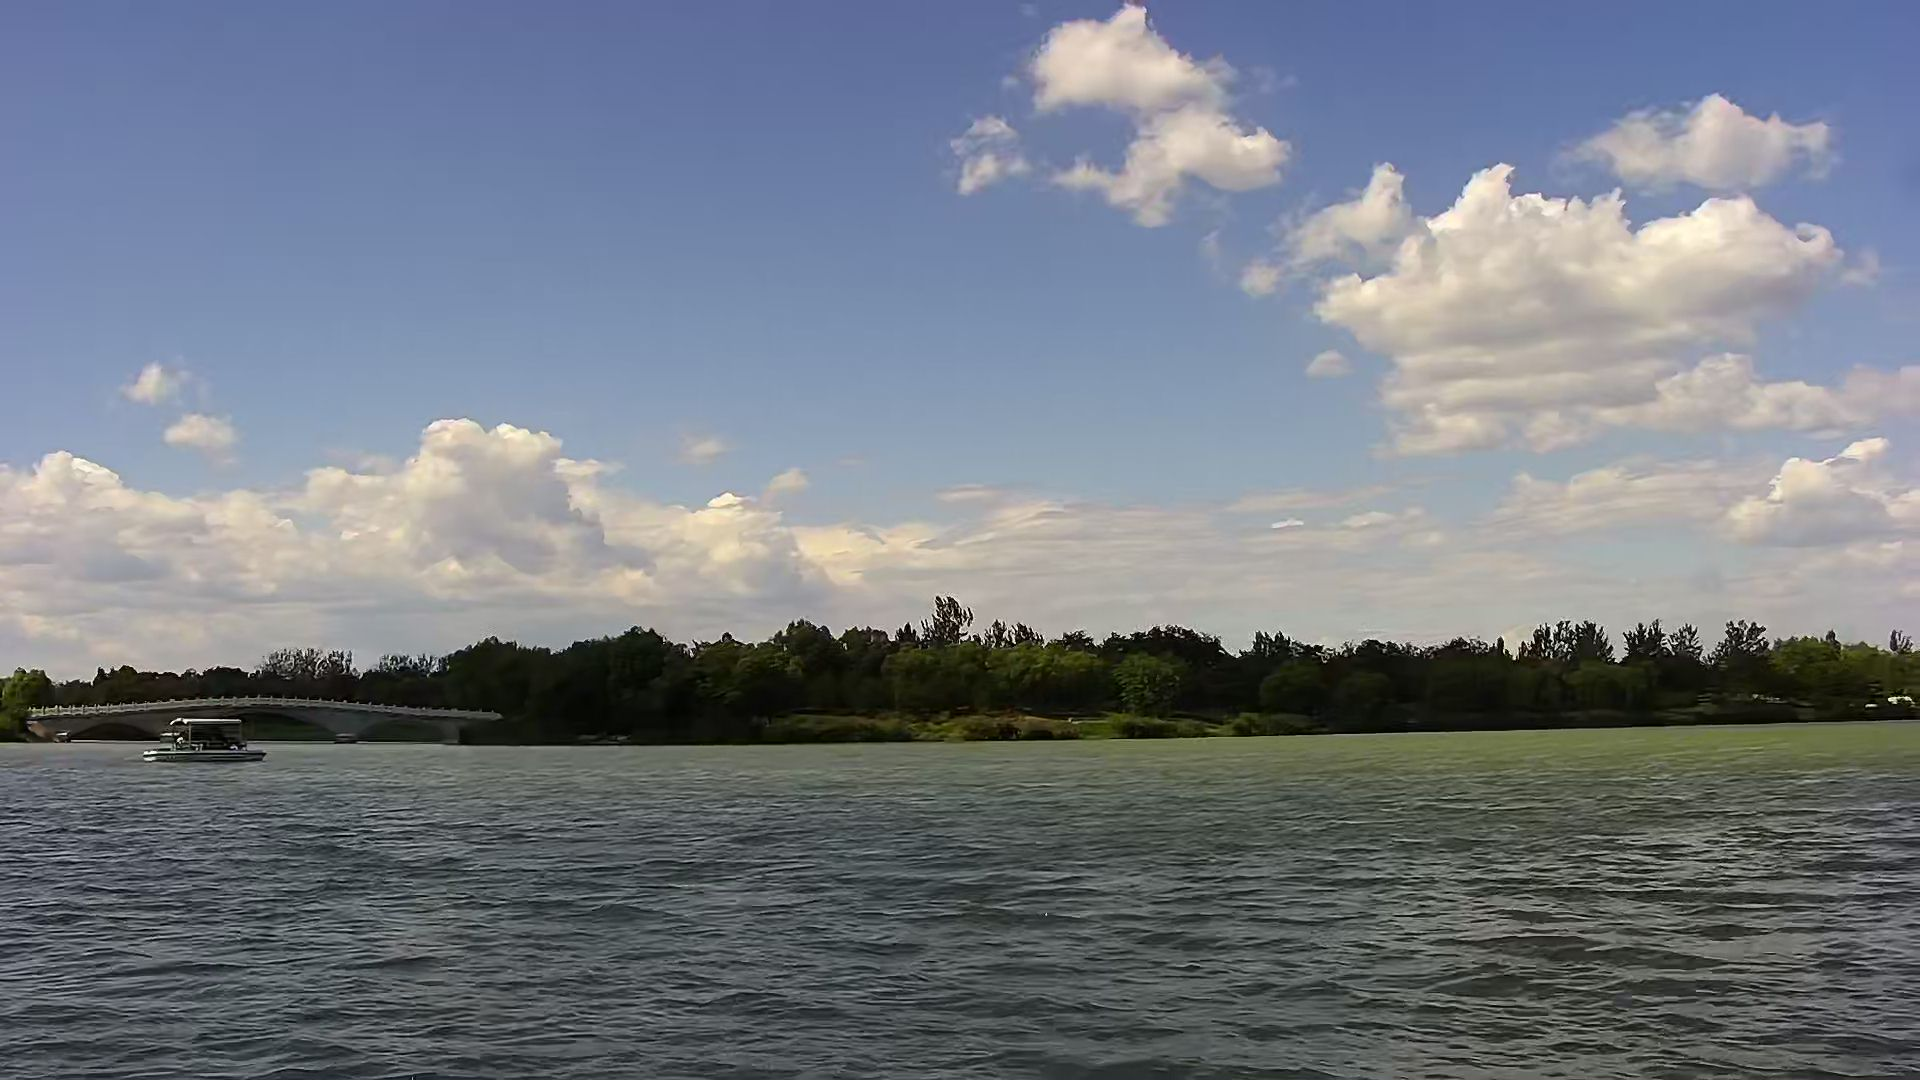boat: (140, 711, 278, 771)
bridge: (22, 684, 506, 750)
